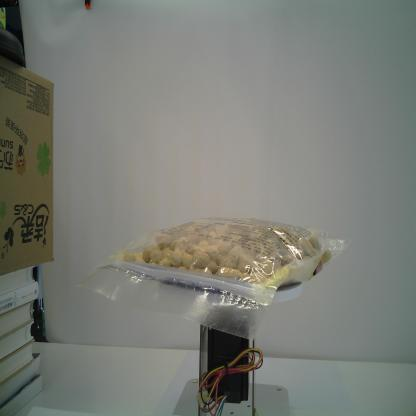Dried Food: (72, 209, 351, 341)
